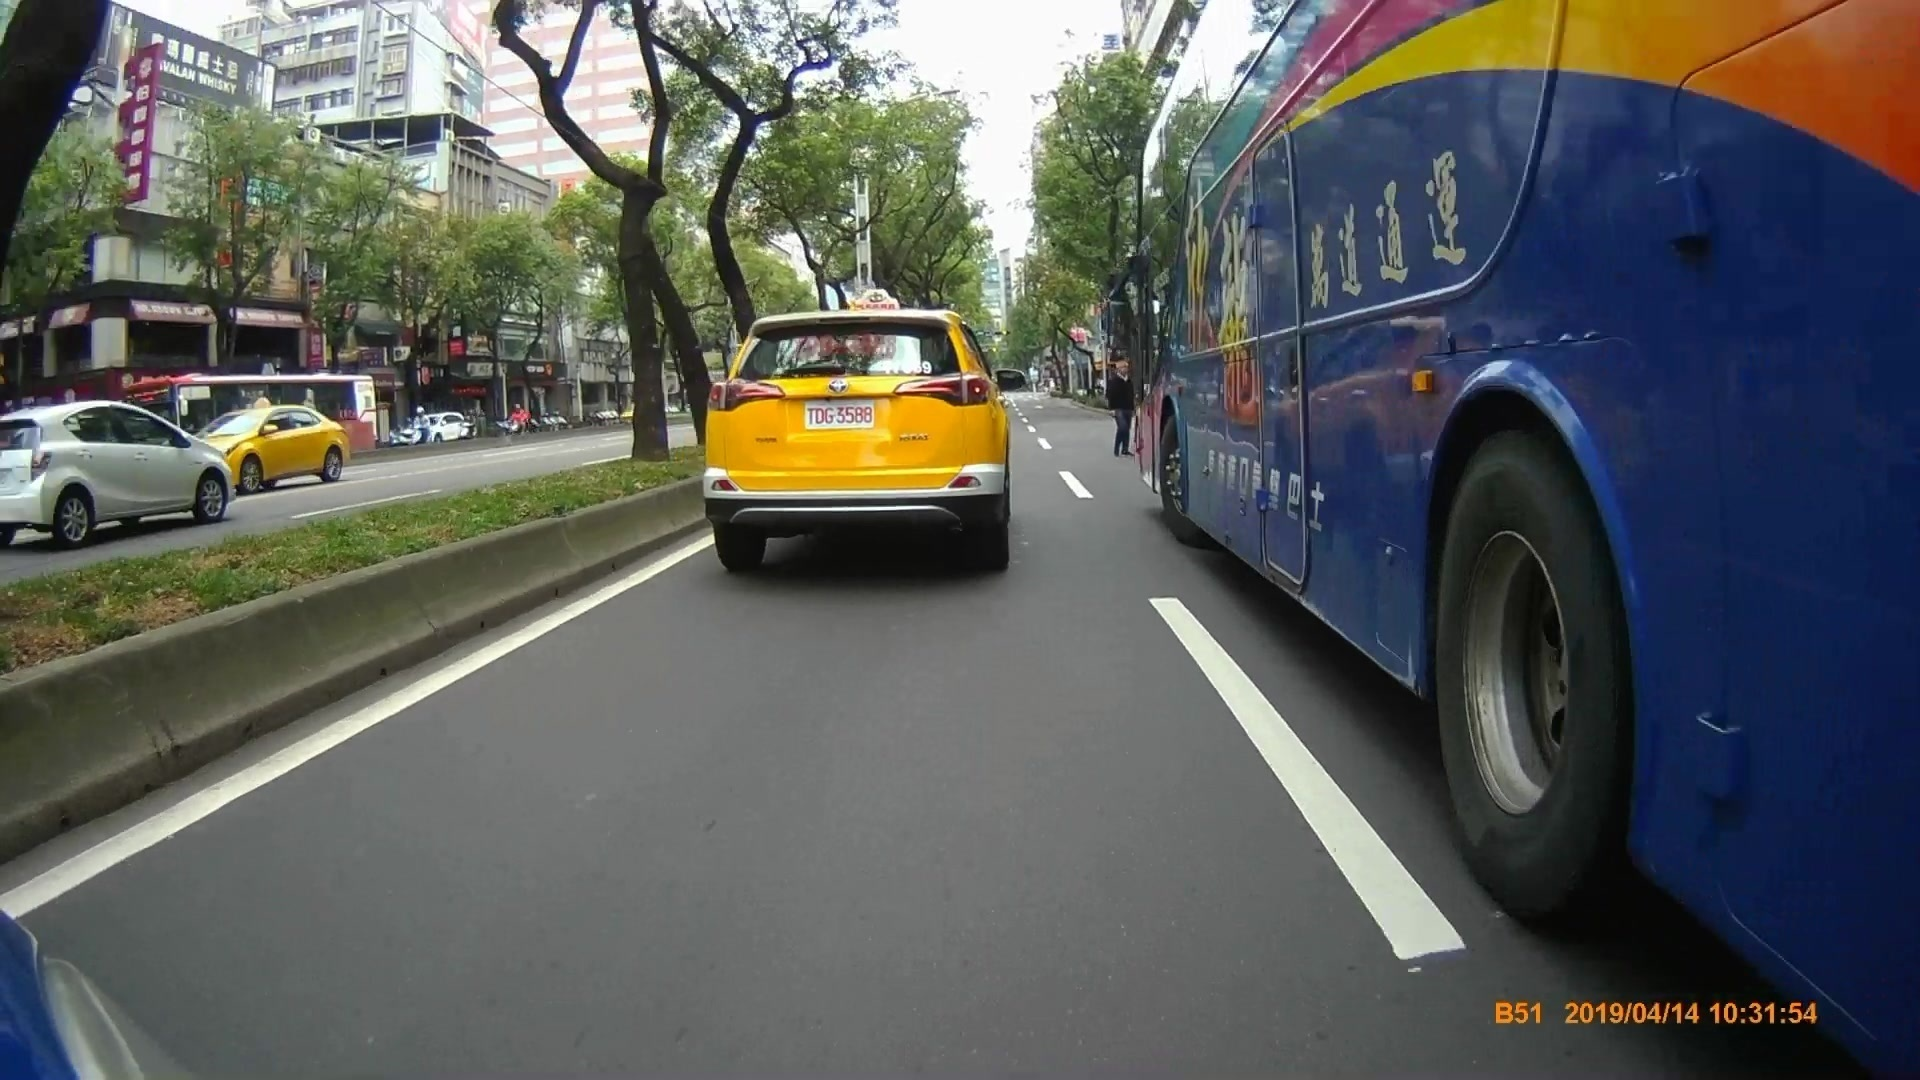License_plate: (803, 402, 877, 431)
